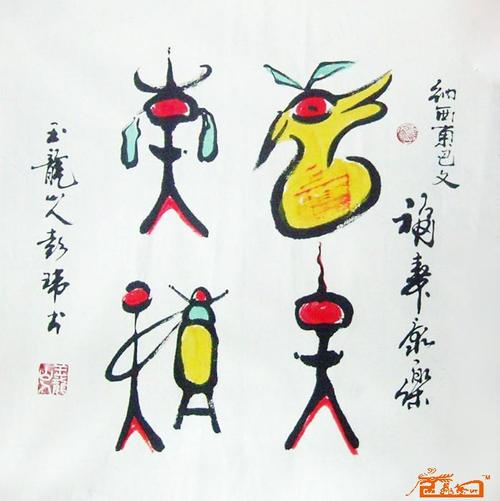chinese: (386, 188, 438, 408), (32, 110, 77, 336), (426, 73, 464, 193)
naxi: (254, 55, 394, 240), (109, 42, 228, 244), (96, 281, 231, 457), (278, 249, 364, 458)
